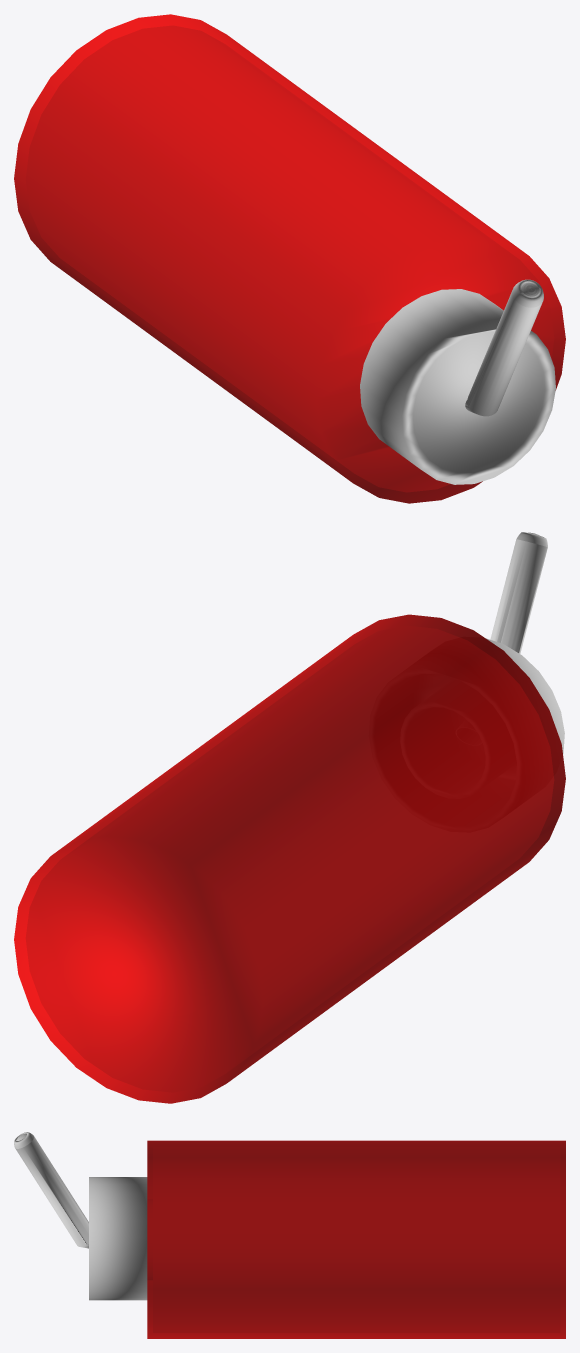
The model's file is model_align.obj.
3 renders of one model, top to bottom at view 1: azimuth 30°, elevation 25°; view 2: azimuth 150°, elevation 25°; view 3: azimuth 270°, elevation 25°, orthographic. The views are drawn at different scales.
Visible parts, largest first — view 1: mesh1_mesh1-geometry, mesh2_mesh2-geometry, mesh3_mesh3-geometry; view 2: mesh1_mesh1-geometry, mesh3_mesh3-geometry, mesh2_mesh2-geometry; view 3: mesh1_mesh1-geometry, mesh2_mesh2-geometry, mesh3_mesh3-geometry.
Part boxes in pixels (x1,y1,x2,y2): mesh1_mesh1-geometry: (14, 14, 565, 503); mesh2_mesh2-geometry: (360, 289, 555, 484); mesh3_mesh3-geometry: (465, 279, 543, 416); mesh1_mesh1-geometry: (14, 614, 565, 1103); mesh3_mesh3-geometry: (490, 532, 547, 653); mesh2_mesh2-geometry: (485, 638, 564, 754); mesh1_mesh1-geometry: (147, 1140, 565, 1338); mesh2_mesh2-geometry: (89, 1177, 147, 1300); mesh3_mesh3-geometry: (14, 1132, 88, 1248).
Size of the model in its own units: 0.0501 by 0.0544 by 0.139.
